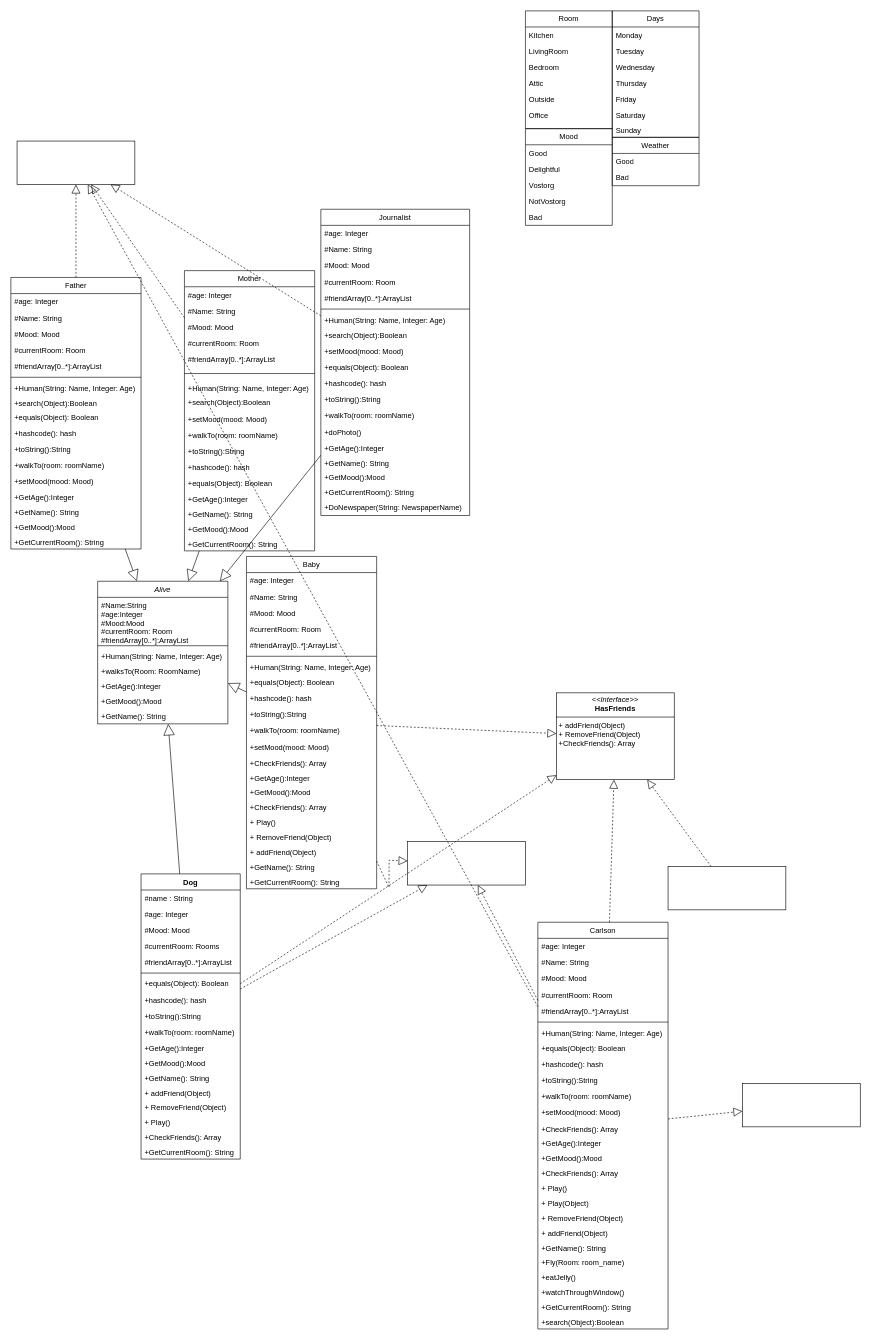
This 871x1342 diagram has some shape labels left out. Each missing label, with the centre of its shape:
"<<Interface>> Flyable +Fly(Room: room_name)" goes at (x=726, y=888).
"<<Interface>> Playing + Play()" goes at (x=466, y=863).
"<<Interface>> Search + Detect(Object): Boolean" goes at (x=75, y=162).
"<<Interface>> WindowWatching +WatchThroughWindow()" goes at (x=801, y=1105).
